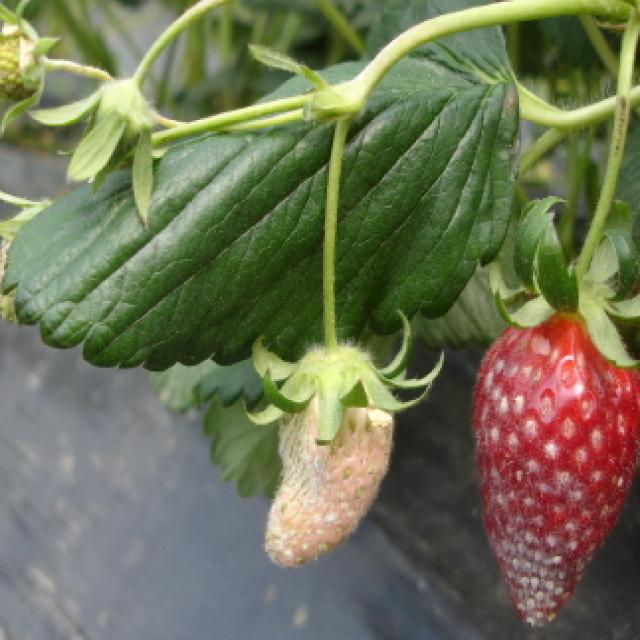Powdery Mildew Fruit: (471, 282, 640, 628), (262, 341, 397, 571)
